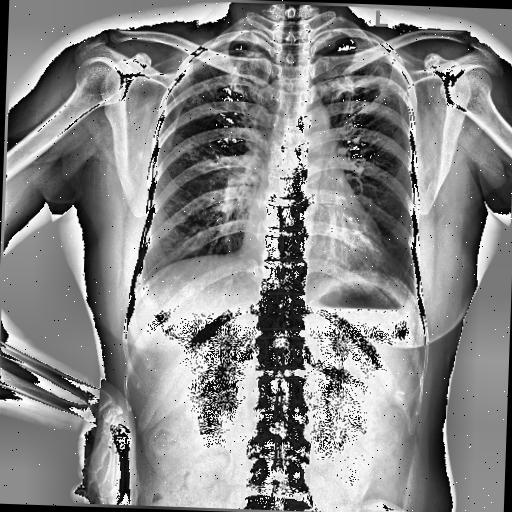13- Pulmonary fibrosis: (351, 64, 398, 130), (352, 52, 400, 112), (351, 58, 386, 108), (183, 78, 230, 114), (243, 44, 265, 57)
6- Infiltration: (351, 58, 386, 108)
